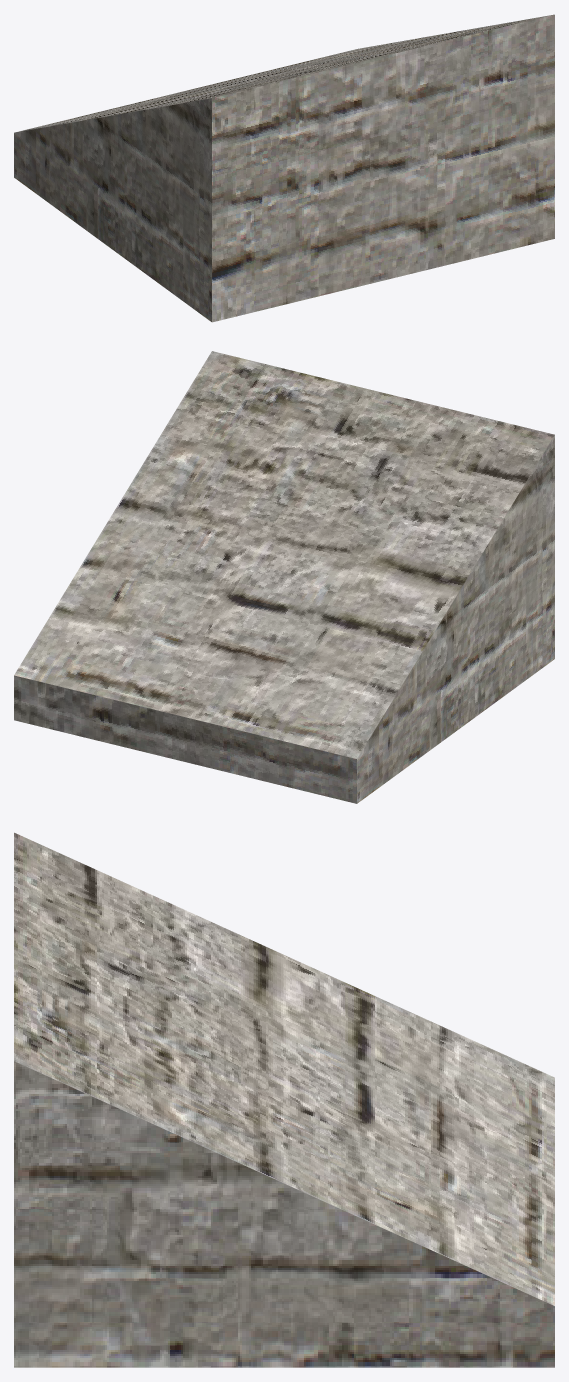
Rendered from SandboxRamp.glb.
3 renders of one model, top to bottom at view 1: azimuth 30°, elevation 25°; view 2: azimuth 150°, elevation 25°; view 3: azimuth 270°, elevation 25°, orthographic. The views are drawn at different scales.
Parts seen in each view (by area): view 1: cuboid; view 2: cuboid; view 3: cuboid.
Part boxes in pixels (x1=…): cuboid: x1=14, y1=14, x2=554, y2=322; cuboid: x1=14, y1=351, x2=554, y2=803; cuboid: x1=14, y1=832, x2=554, y2=1367.
Bounding box in the file's own units: 2 × 1.25 × 2.
Materials: 1 (1 with a texture image).
